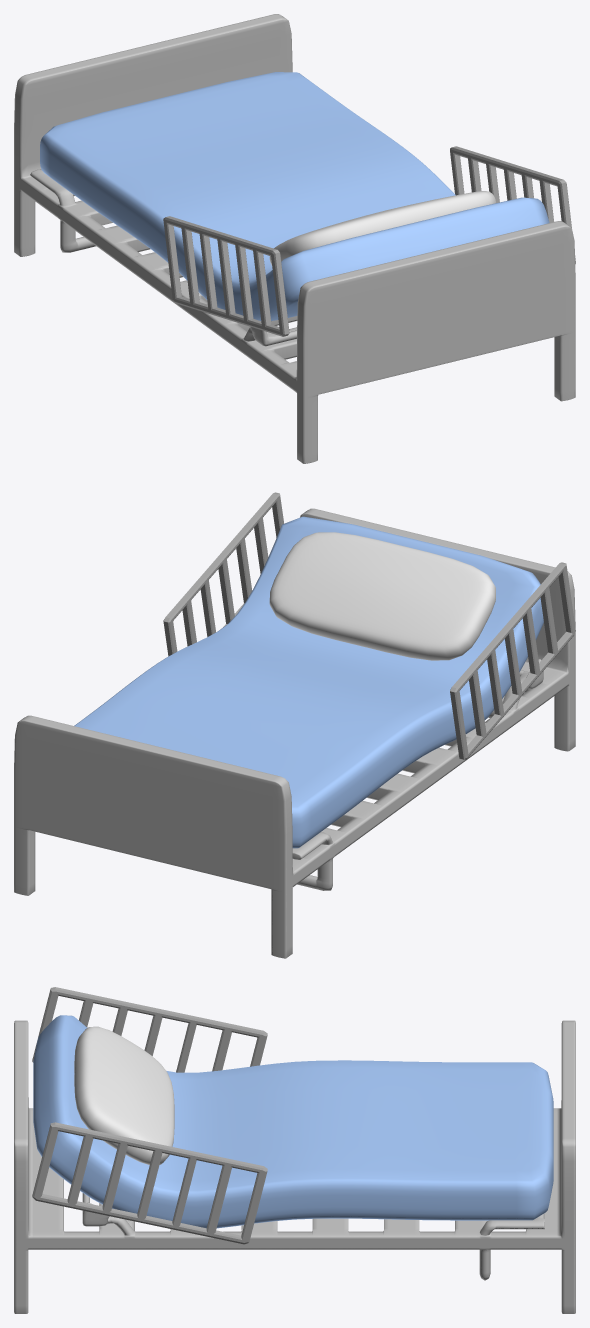
Rendered from hospitalBed.fbx.
3 views of the same model, one above another, from view 1: azimuth 30°, elevation 25°; view 2: azimuth 150°, elevation 25°; view 3: azimuth 270°, elevation 25° (orthographic). The views are drawn at different scales.
Parts seen in each view (by area): view 1: bedFrame, mattress, bedFrameArmL, pillow, bedFrameArmR; view 2: mattress, bedFrame, pillow, bedFrameArmL, bedFrameArmR; view 3: mattress, bedFrame, pillow, bedFrameArmR, bedFrameArmL.
Boxes of the visible parts, box(x1,y1,x2,y2) form: bedFrame: box(14, 14, 575, 463); mattress: box(40, 72, 549, 320); bedFrameArmL: box(163, 216, 289, 336); pillow: box(269, 191, 495, 265); bedFrameArmR: box(450, 146, 575, 263); mattress: box(74, 516, 543, 848); bedFrame: box(14, 508, 575, 958); pillow: box(269, 532, 495, 660); bedFrameArmL: box(450, 562, 575, 759); bedFrameArmR: box(163, 492, 283, 656); mattress: box(33, 1015, 553, 1228); bedFrame: box(14, 1020, 575, 1313); pillow: box(74, 1026, 174, 1164); bedFrameArmR: box(32, 1122, 267, 1244); bedFrameArmL: box(32, 987, 267, 1072).
Bounding box in the file's own units: 123 × 80.47 × 211.
